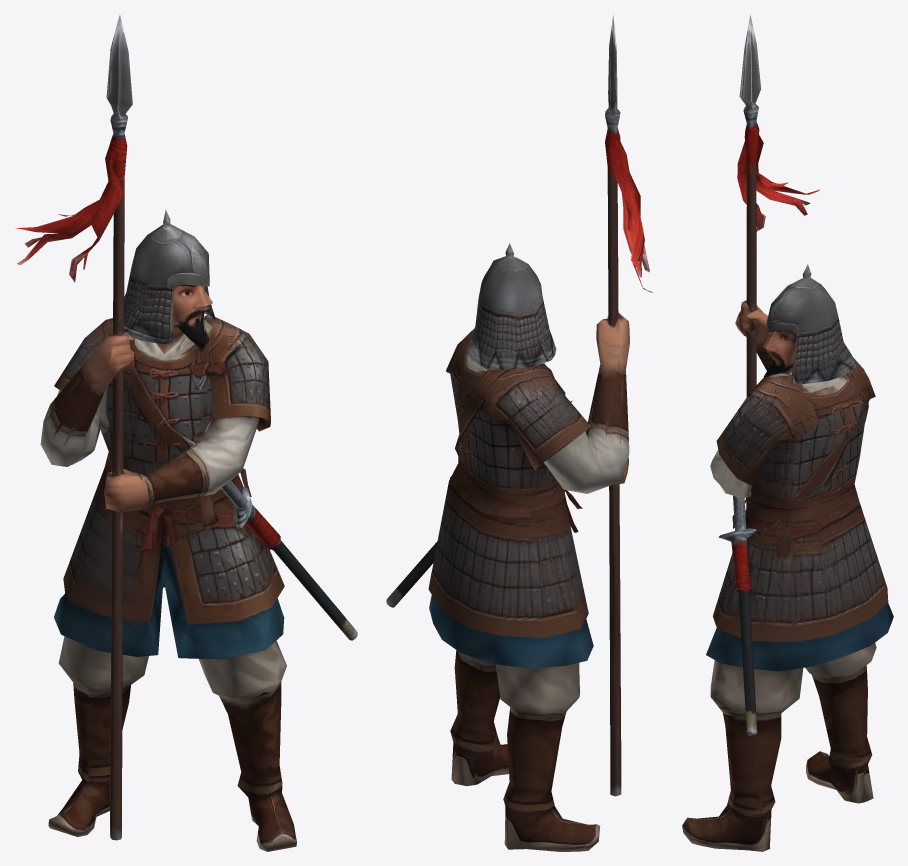
File: shibing_b_c.glb
3 views of the same model, side by side, from view 1: azimuth 30°, elevation 25°; view 2: azimuth 150°, elevation 25°; view 3: azimuth 270°, elevation 25° (orthographic). The views are drawn at different scales.
Parts seen in each view (by area): view 1: Mesh_0; view 2: Mesh_0; view 3: Mesh_0.
Boxes of the visible parts, x1=… form: Mesh_0: x1=15, y1=14, x2=357, y2=851; Mesh_0: x1=386, y1=15, x2=652, y2=851; Mesh_0: x1=682, y1=15, x2=893, y2=851.
Bounding box in the file's own units: 0.3677 × 0.9541 × 0.2392.
1 material, 1 textured.
